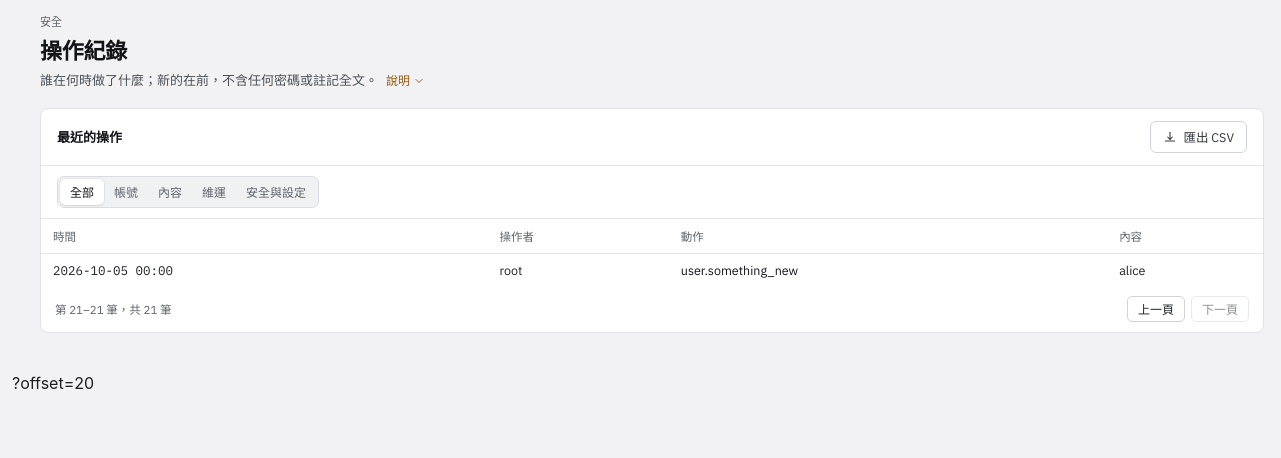
Test: 分類篩選：交給後端篩，筆數與翻頁是篩選後的；分類放在 URL、換分類回第一頁
The width and height of the screenshot is (1281, 458).
Expected: the text "第 21–21 筆，共 21 筆" is shown, [55,301,172,317]
Expected: the button "全部" is shown, [60,179,104,205]
Click the button "帳號" at (126, 192), box [104,179,148,205]
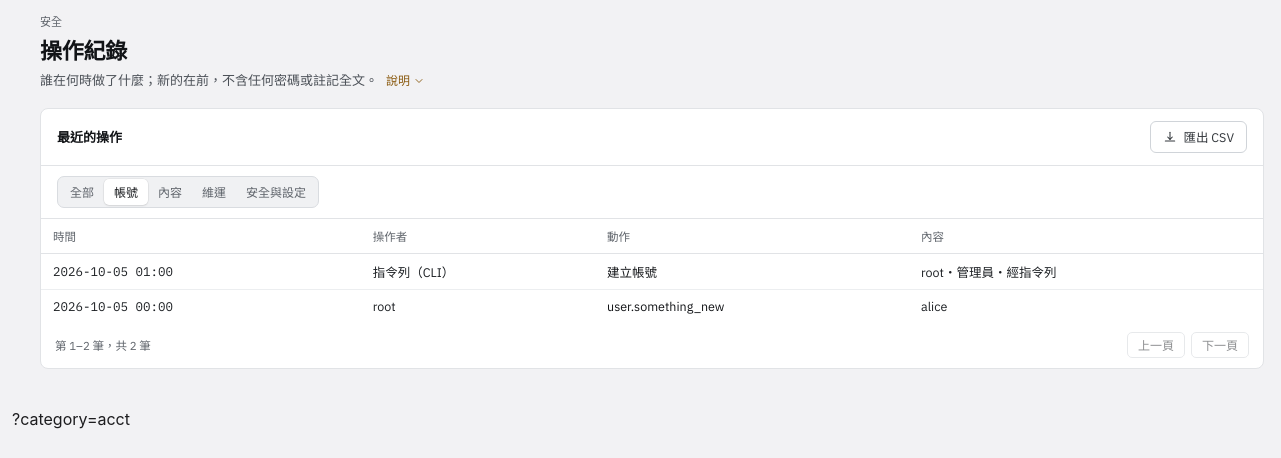
Result: the text with test id "where" reads "?category=acct" at [12,409,130,429]
Result: the text "第 1–2 筆，共 2 筆" is shown at [55,337,151,353]
Result: the cell "指令列（CLI）" is shown at [361,253,595,289]
// 「內容」是多個前綴；這份假資料裡沒有，說「沒有」而不是「這一頁沒有」。
Click the button "內容" at (170, 192), box [148,179,192,205]
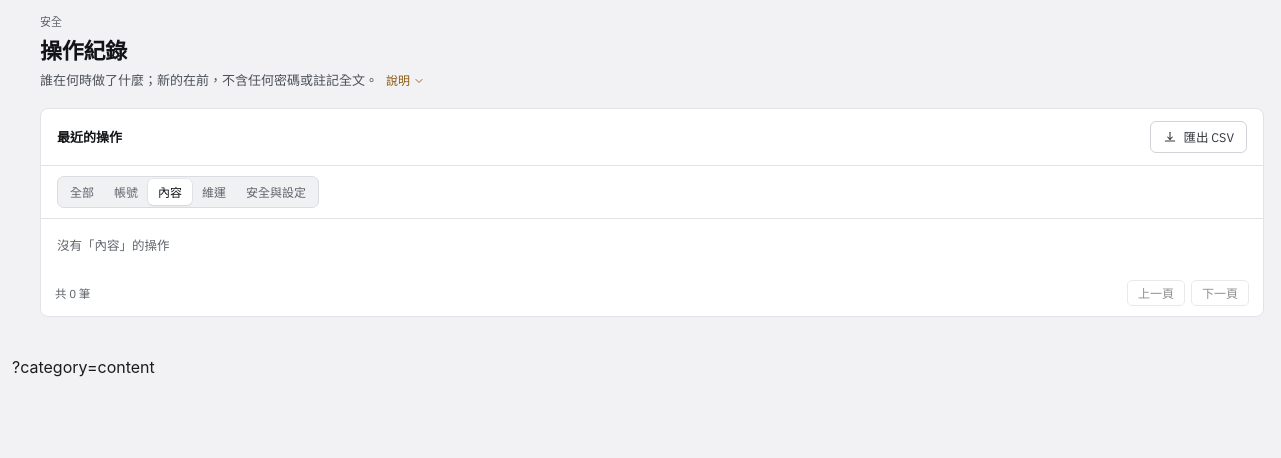
Result: the text "沒有「內容」的操作" is shown at [57,237,170,253]
Result: the text "共 0 筆" is shown at [55,285,90,301]
// 「安全與設定」是其餘全部：排除其他三類的前綴，後端沒見過的 action 也落在這裡。
Click the button "安全與設定" at (276, 192), box [236,179,316,205]
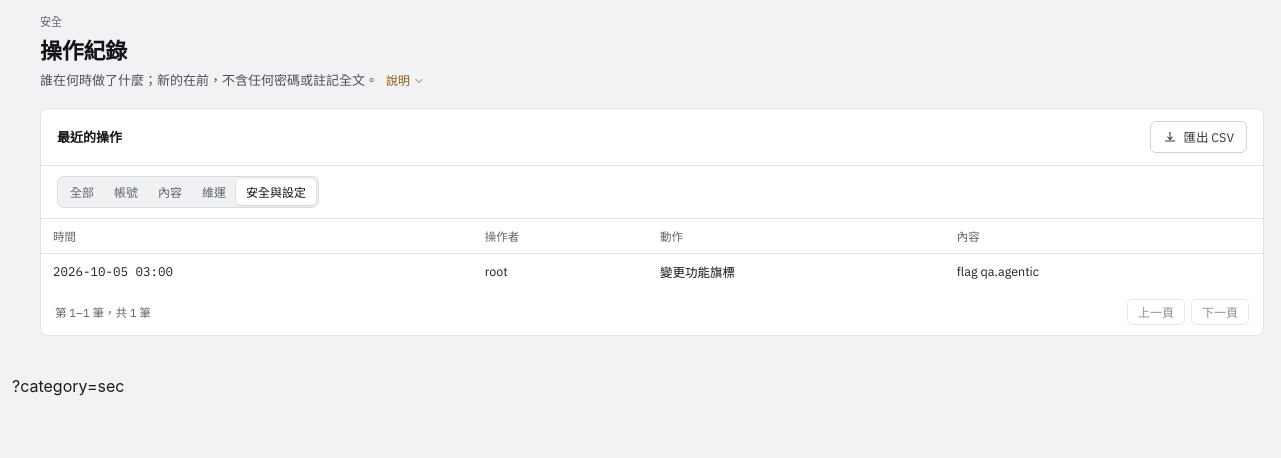
Result: the text with test id "where" reads "?category=sec" at [12,376,124,396]
Result: the text "第 1–1 筆，共 1 筆" is shown at [55,304,151,320]
Result: the button "變更功能旗標" is shown at [660,262,735,281]
Click the button "全部" at (82, 192), box [60,179,104,205]
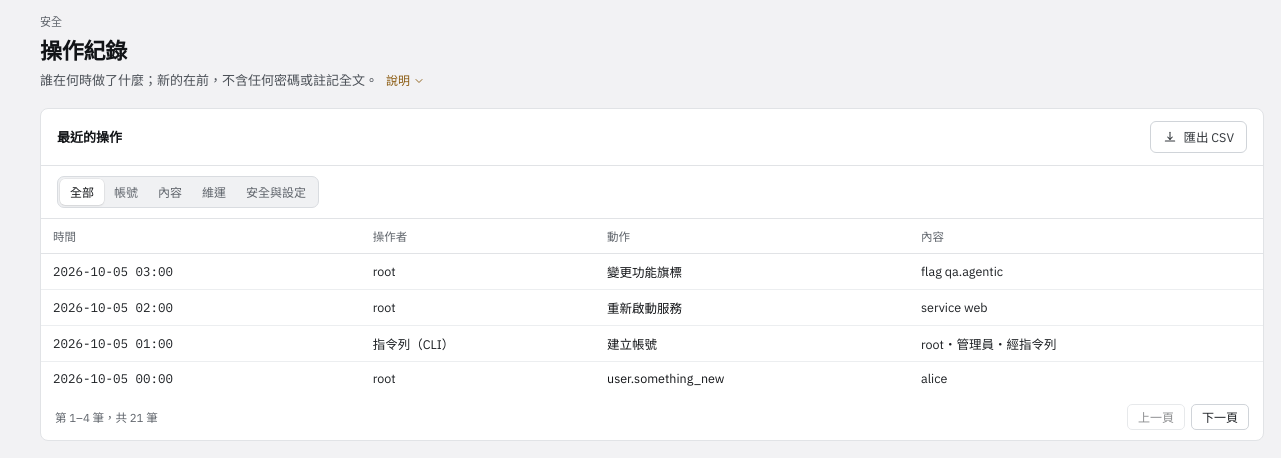
Result: the number of rows is 5 at [41,219,1263,253]; [41,253,1263,289]; [41,289,1263,325]; [41,325,1263,361]; [41,361,1263,394]
Result: the text "第 1–4 筆，共 21 筆" is shown at [55,409,158,425]
